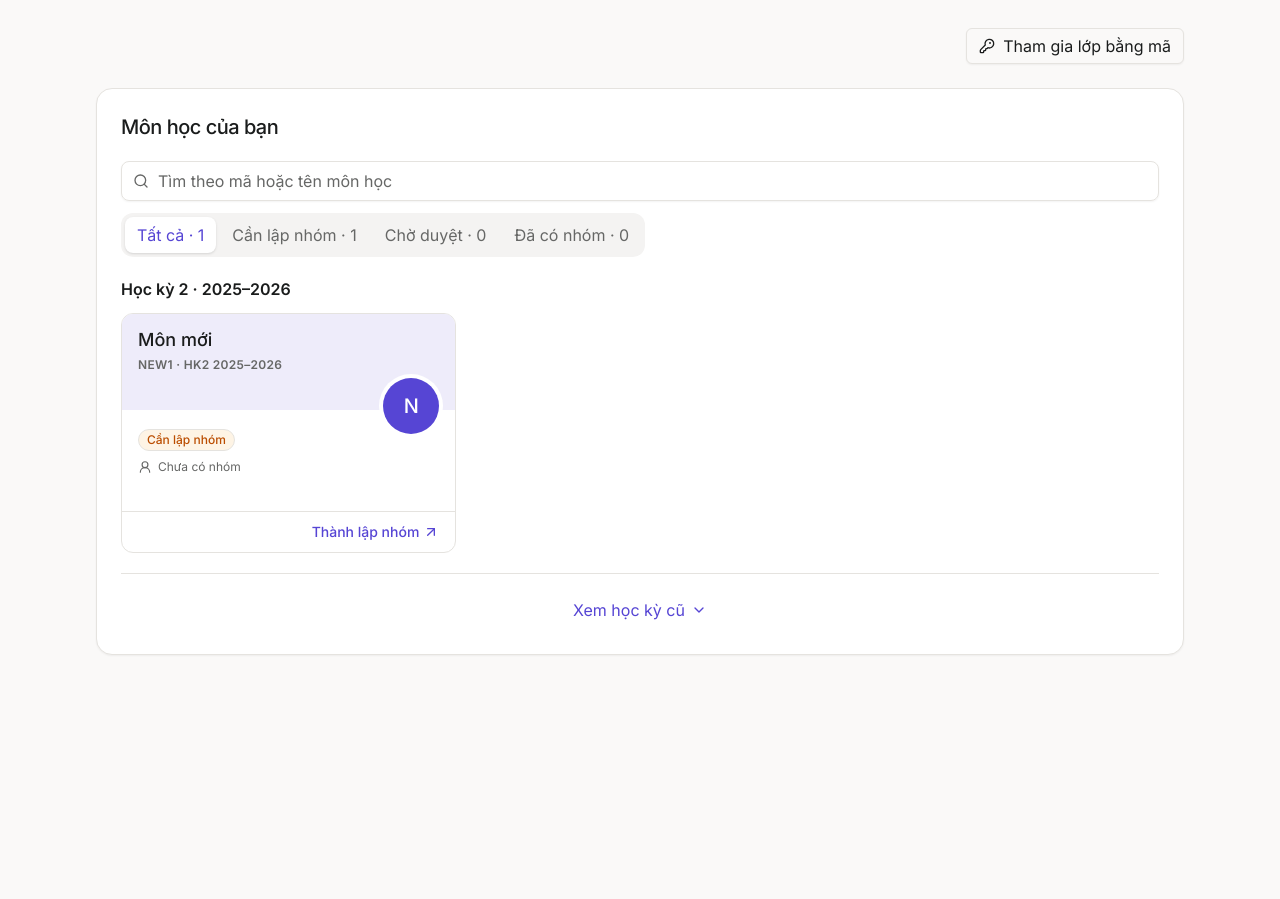
it: CoursesRoute (real classroom) › groups classes by term, newest first, and hides older terms until expanded
Expected: the link "Môn mới" is shown, [138,329,212,350]
Expected: the text "Môn cũ" is not shown
Click the button "Xem học kỳ cũ" at [640, 610], box [557,590,723,630]
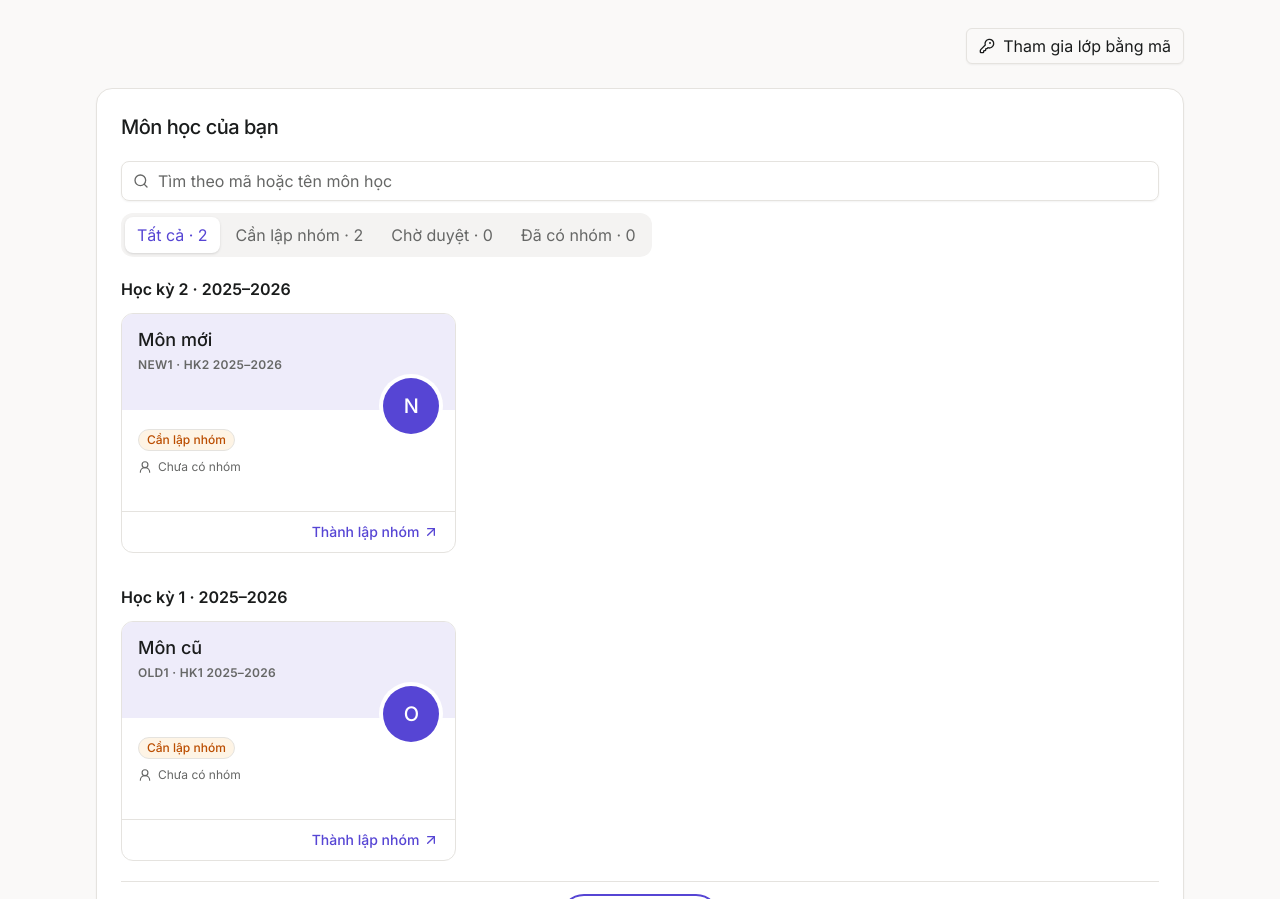
Now the link "Môn cũ" is shown, box [138,637,202,658]
